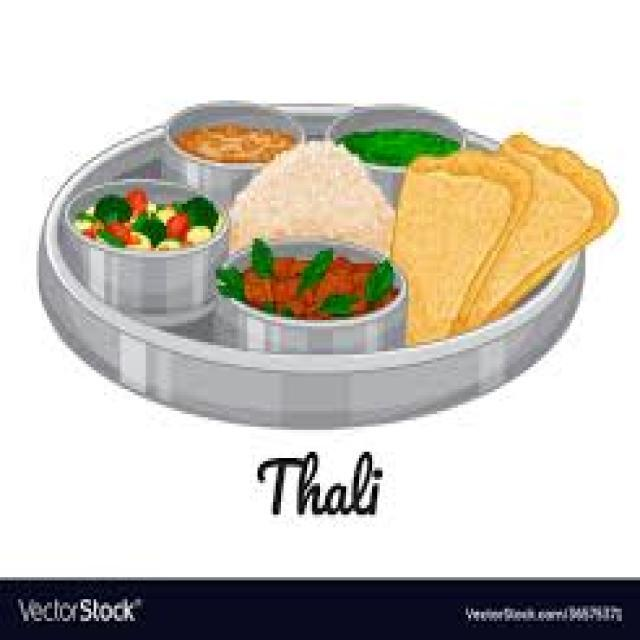veg-fry: (176, 105, 297, 171)
